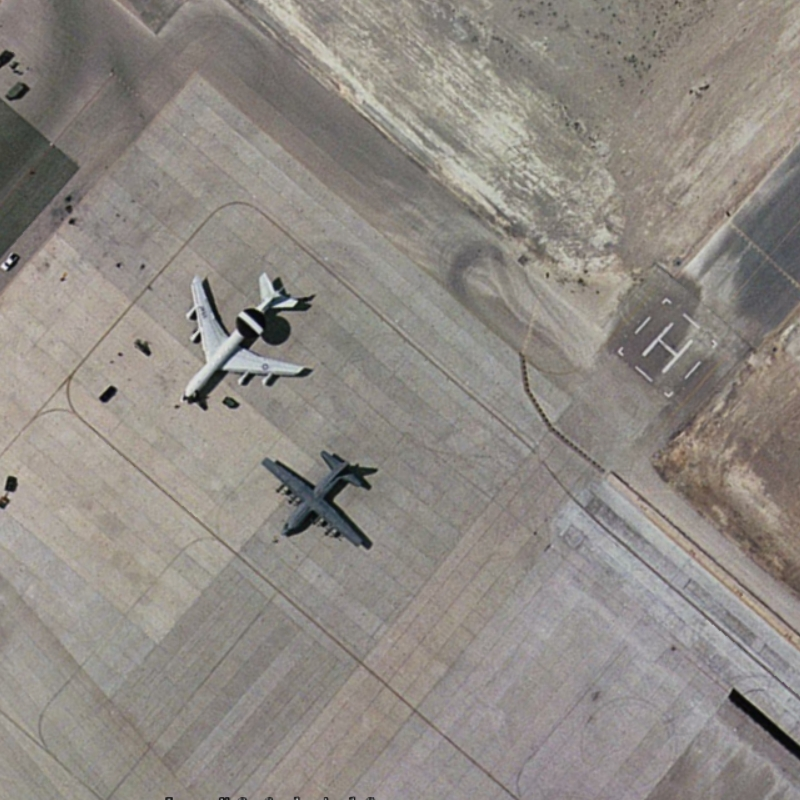A2: (257, 439, 377, 559)
A7: (171, 263, 316, 410)
